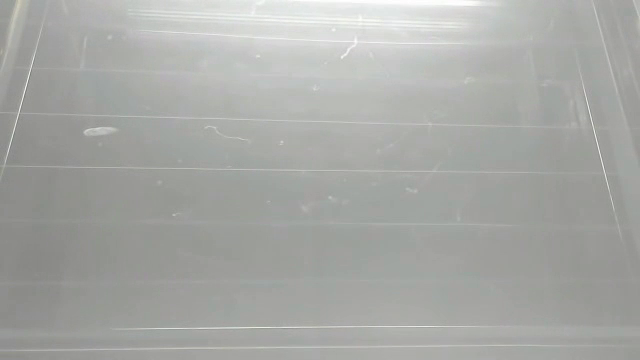alpha: (81, 122, 119, 140)
